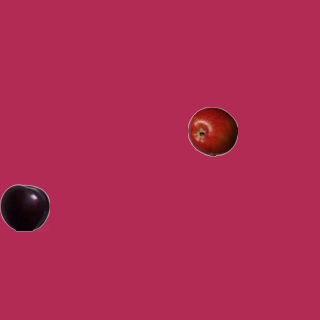Apple Braeburn: (187, 106, 237, 156)
Cherry Wax Black: (0, 182, 49, 232)
